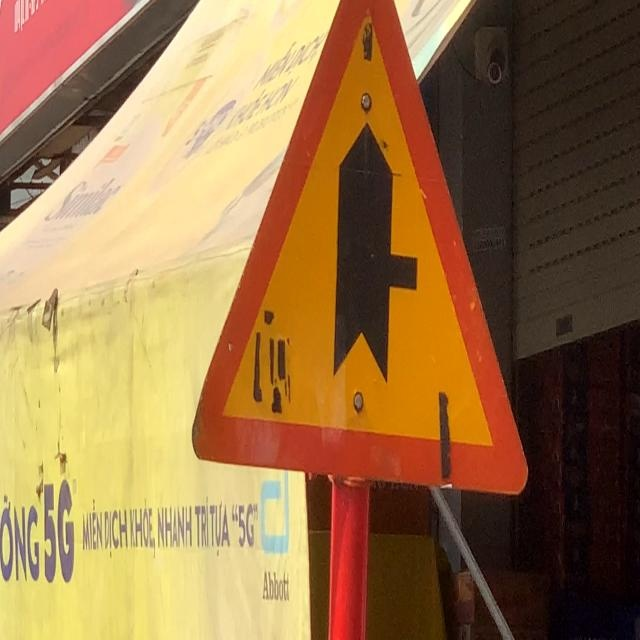bien_nguy_hiem: (185, 0, 534, 513)
